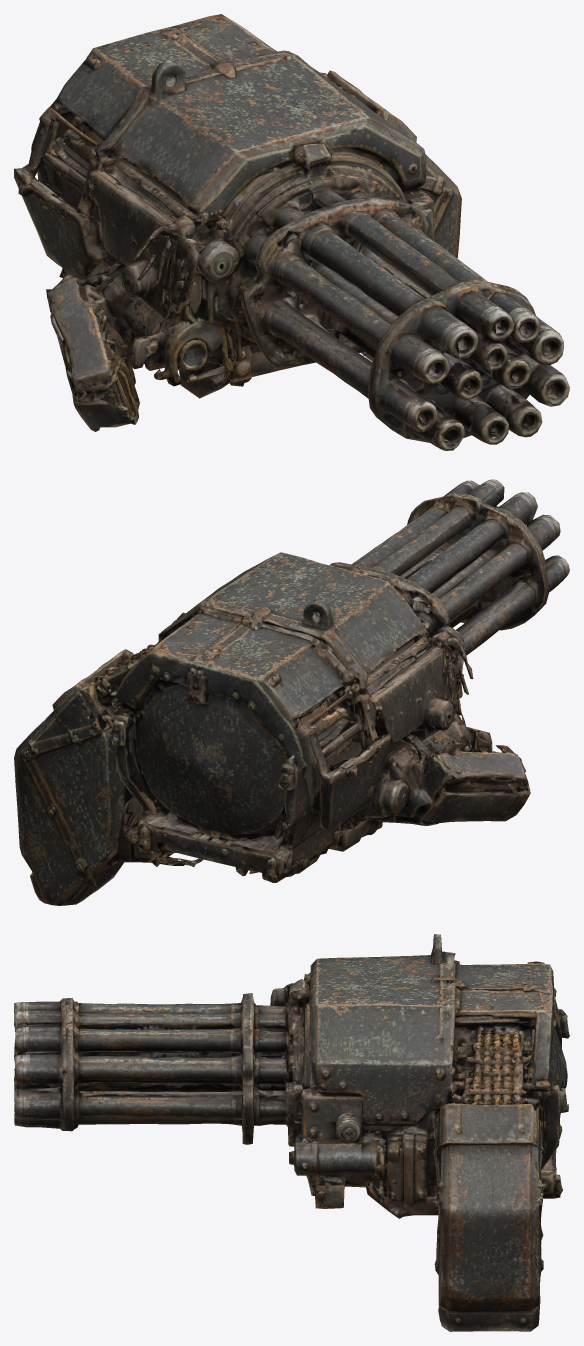
File: BK_Gun20.fbx
3 renders of one model, top to bottom at view 1: azimuth 30°, elevation 25°; view 2: azimuth 150°, elevation 25°; view 3: azimuth 270°, elevation 25°, orthographic. The views are drawn at different scales.
Visible parts, largest first — view 1: texture_mapping; view 2: texture_mapping; view 3: texture_mapping.
Boxes of the visible parts, x1,y1,x2,y2 form: texture_mapping: [14, 14, 569, 450]; texture_mapping: [14, 479, 569, 905]; texture_mapping: [14, 934, 569, 1331].
Bounding box in the file's own units: 0.7657 × 0.9942 × 0.5808.
Materials: 1 (1 with a texture image).
